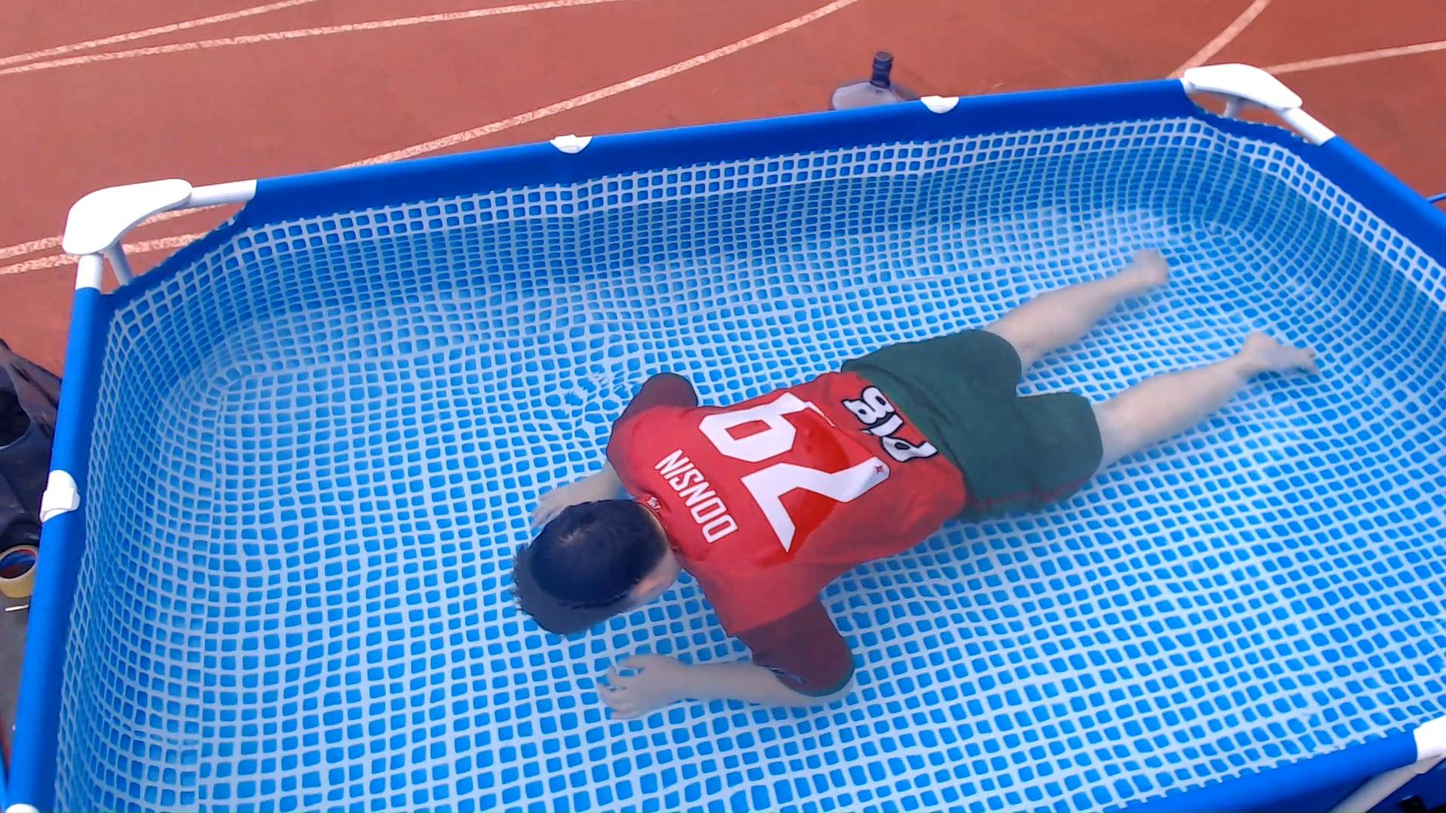Drowning: (483, 222, 1315, 773)
